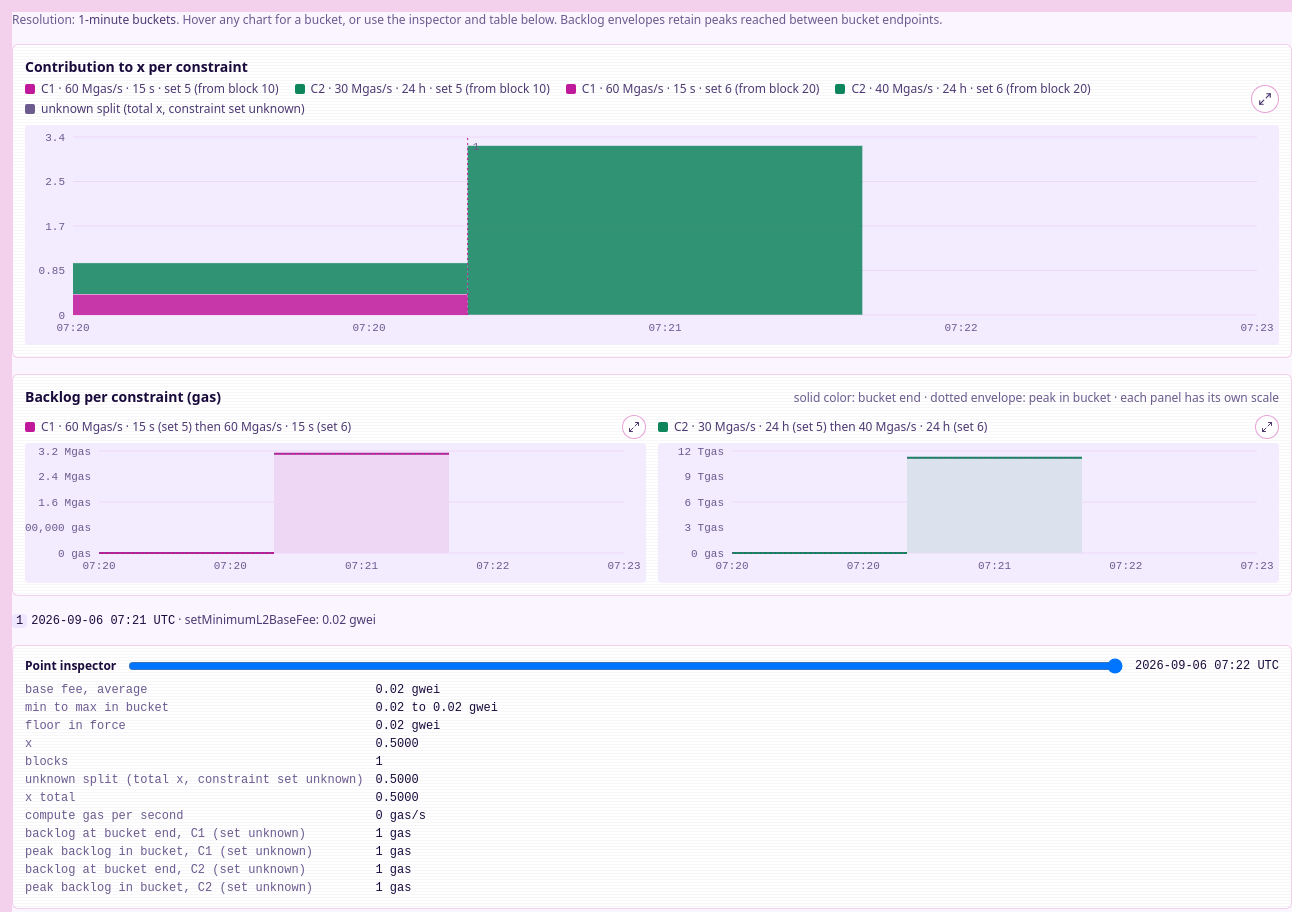
Test: SeriesCharts › draws no floor for a bucket that recorded none, and reads it out as n/a
The image size is (1292, 912).
Set the slider named "Select a bucket" to "0". click: (136, 666)
box: 128,658 -> 1123,674
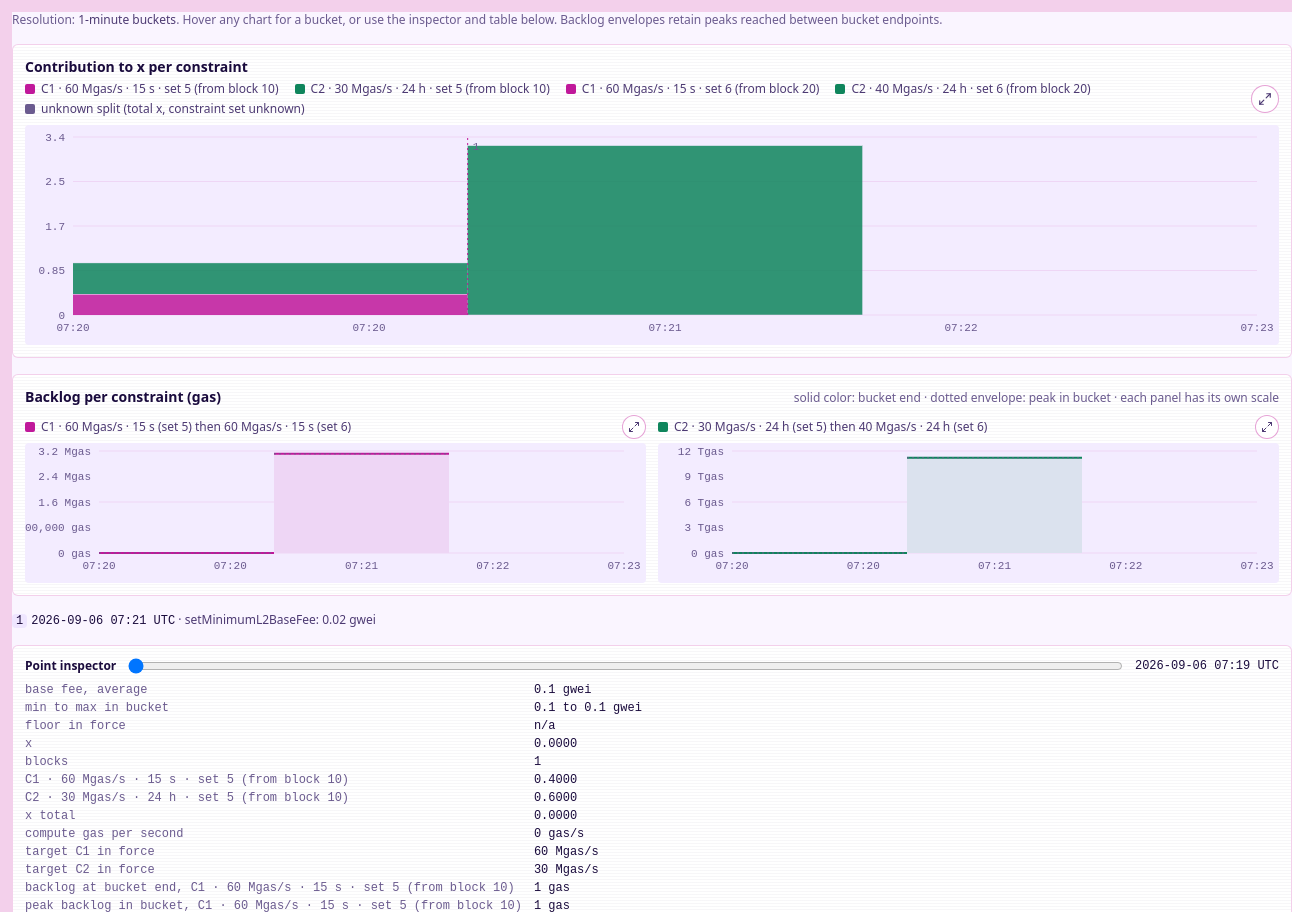
expect the text "n/a" is shown: met, box 534,719 -> 556,733
